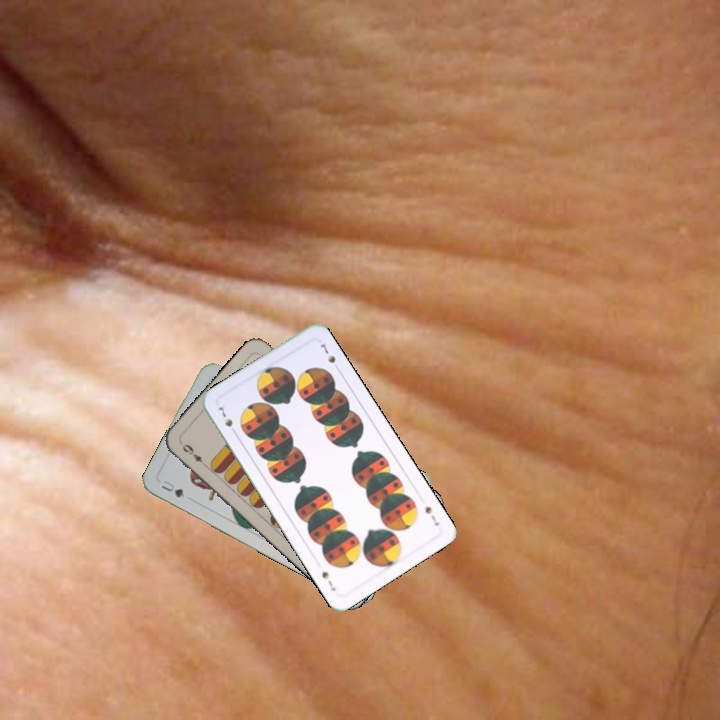E9: (177, 438, 210, 470)
GU: (157, 476, 188, 500)
S7: (214, 402, 240, 438), (421, 502, 442, 528)
